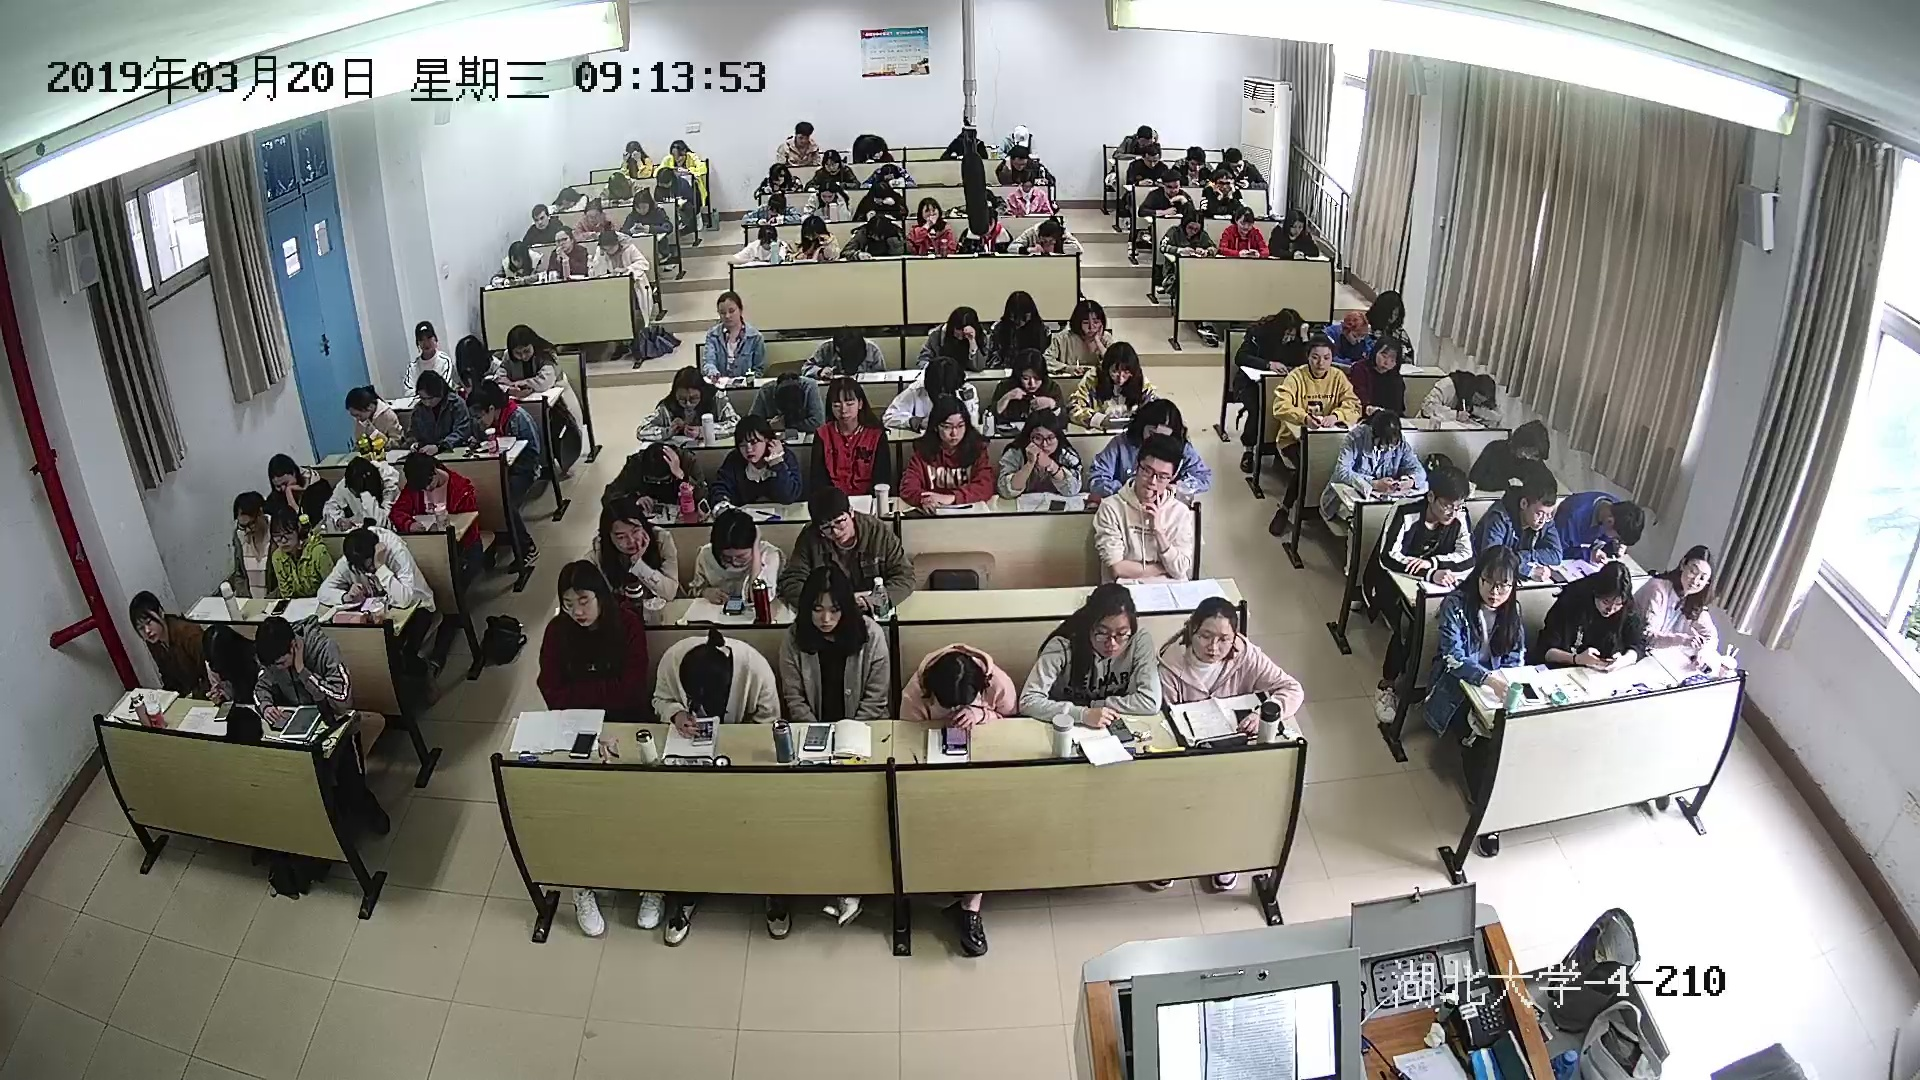person: (1016, 580, 1162, 731), (1418, 545, 1553, 704), (1159, 578, 1308, 720), (1089, 430, 1222, 588), (779, 561, 896, 739), (531, 558, 653, 725), (776, 483, 922, 610), (1535, 543, 1649, 696), (898, 623, 1020, 753), (241, 611, 369, 735), (648, 620, 776, 742), (1632, 526, 1726, 683), (1085, 396, 1224, 500), (1382, 455, 1478, 604), (891, 391, 1000, 519), (1558, 460, 1666, 584), (569, 491, 686, 603), (807, 373, 899, 510), (626, 350, 754, 446), (1471, 463, 1571, 584), (709, 404, 815, 515), (318, 526, 440, 622), (687, 499, 787, 609), (874, 349, 1004, 435), (599, 437, 724, 525), (1062, 340, 1182, 431), (200, 482, 286, 603), (992, 403, 1091, 506), (387, 449, 495, 538), (1264, 335, 1361, 432), (128, 588, 205, 708), (1333, 400, 1426, 495), (988, 345, 1085, 430), (798, 293, 894, 375), (1474, 406, 1556, 502), (1339, 331, 1418, 428), (455, 378, 548, 460), (1044, 293, 1135, 376), (696, 286, 773, 384), (262, 504, 334, 608), (746, 362, 838, 442), (988, 278, 1060, 376), (195, 608, 259, 719), (918, 289, 996, 375), (320, 456, 404, 531), (402, 368, 472, 453), (1416, 365, 1515, 425), (499, 316, 572, 395), (335, 380, 405, 463), (265, 445, 328, 530), (1236, 304, 1314, 373), (1361, 278, 1421, 358), (1319, 300, 1379, 371), (401, 322, 456, 395), (1008, 210, 1084, 261), (846, 176, 912, 226), (1269, 204, 1320, 262), (841, 211, 901, 261), (906, 194, 954, 255), (772, 114, 824, 167), (590, 229, 647, 278), (1162, 210, 1215, 262), (1139, 168, 1196, 216), (1218, 202, 1265, 261), (1211, 146, 1271, 191), (959, 210, 1014, 258), (456, 332, 501, 391), (544, 225, 589, 285), (1003, 167, 1055, 219), (490, 237, 543, 287), (937, 118, 992, 163), (616, 188, 672, 232), (723, 225, 784, 265), (783, 211, 834, 258), (803, 148, 857, 191), (1200, 169, 1247, 218), (656, 136, 710, 178), (801, 181, 850, 226), (994, 145, 1050, 185), (1117, 113, 1163, 161), (859, 159, 923, 192), (738, 190, 803, 223), (1127, 142, 1172, 190), (1168, 143, 1217, 186), (519, 201, 571, 241), (945, 184, 1008, 217), (847, 125, 898, 165), (751, 160, 804, 198), (656, 139, 705, 176), (597, 170, 643, 204), (647, 170, 696, 202), (617, 135, 652, 180), (999, 122, 1040, 160), (651, 167, 693, 200), (571, 201, 610, 235), (618, 140, 655, 176), (543, 185, 590, 212), (597, 171, 636, 205), (545, 182, 592, 208)
